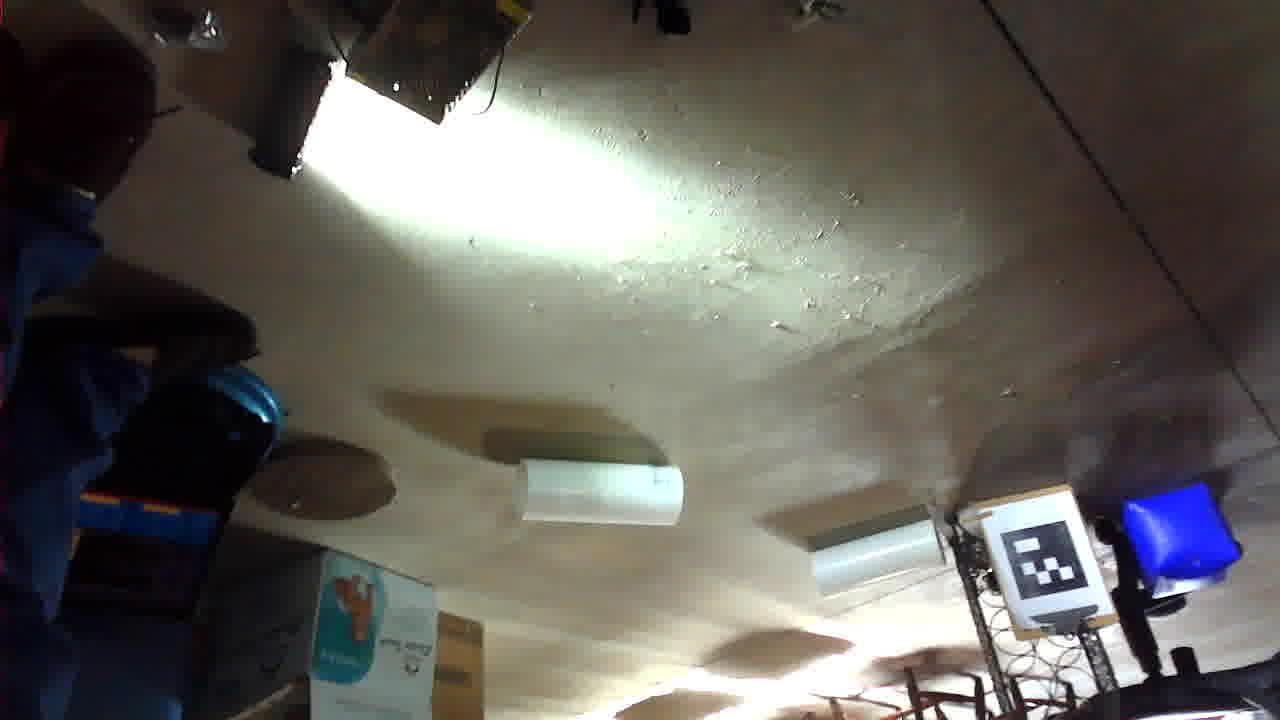coral: (596, 196, 764, 263), (337, 130, 473, 192)
